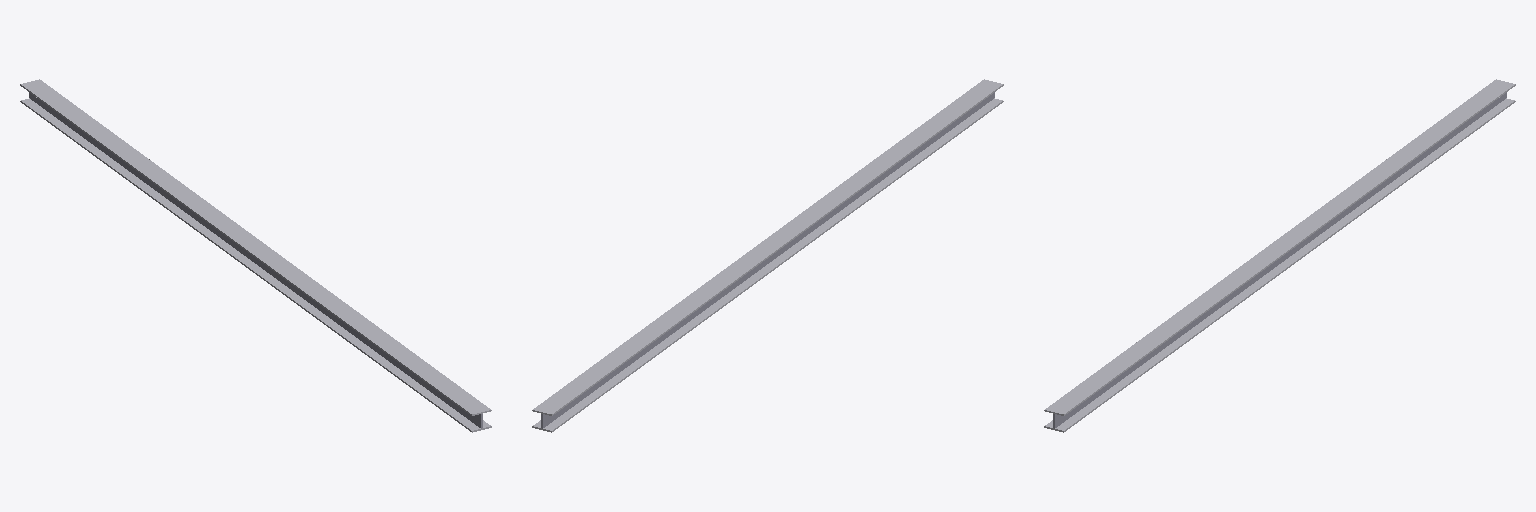
robot.urdf — h_bar:
<?xml version="1.0" ?>
<!-- =================================================================================== -->
<!-- |    This document was autogenerated by xacro from h_bar.xacro                    | -->
<!-- |    EDITING THIS FILE BY HAND IS NOT RECOMMENDED                                 | -->
<!-- =================================================================================== -->
<robot name="h_bar">
  <link name="world"/>
  <!-- Bottom leg (aligned with z-axis after rotation, below origin) -->
  <link name="hbar_bottom_leg">
    <visual>
      <origin rpy="0 1.57079633 0" xyz="0 0 0"/>
      <geometry>
        <!-- thickness x, profile width y, leg length along local z -->
        <box size="0.01 5.0 0.125"/>
      </geometry>
      <material name="hbar_material_bottom">
        <!-- Brushed steel-like gray -->
        <color rgba="0.75 0.75 0.78 1.0"/>
      </material>
    </visual>
    <collision>
      <origin rpy="0 1.57079633 0" xyz="0 0 0"/>
      <geometry>
        <box size="0.01 5.0 0.125"/>
      </geometry>
    </collision>
    <inertial>
      <origin rpy="0 0 0" xyz="0 0 0"/>
      <mass value="0.3333333333333333"/>
      <inertia ixx="0.6948784722222222" ixy="0.0" ixz="0.0" iyy="0.0004368055555555555" iyz="0.0" izz="0.6944472222222222"/>
    </inertial>
  </link>
  <!-- Top leg (aligned with z-axis after rotation, above origin) -->
  <link name="hbar_top_leg">
    <visual>
      <origin rpy="0 1.57079633 0" xyz="0 0 0"/>
      <geometry>
        <box size="0.01 5.0 0.125"/>
      </geometry>
      <material name="hbar_material_top">
        <!-- Brushed steel-like gray -->
        <color rgba="0.75 0.75 0.78 1.0"/>
      </material>
    </visual>
    <collision>
      <origin rpy="0 1.57079633 0" xyz="0 0 0"/>
      <geometry>
        <box size="0.01 5.0 0.125"/>
      </geometry>
    </collision>
    <inertial>
      <origin rpy="0 0 0" xyz="0 0 0"/>
      <mass value="0.3333333333333333"/>
      <inertia ixx="0.6948784722222222" ixy="0.0" ixz="0.0" iyy="0.0004368055555555555" iyz="0.0" izz="0.6944472222222222"/>
    </inertial>
  </link>
  <!-- Crossbar: vertical (aligned with z-axis) at the origin -->
  <link name="hbar_crossbar">
    <visual>
      <!-- Thickness in x,y, length in z -->
      <origin rpy="0 0 0" xyz="0 0 0"/>
      <geometry>
        <box size="0.01 5.0 0.1"/>
      </geometry>
      <material name="hbar_material_cross">
        <!-- Slightly darker steel for visual contrast -->
        <color rgba="0.65 0.65 0.7 1.0"/>
      </material>
    </visual>
    <collision>
      <origin rpy="0 0 0" xyz="0 0 0"/>
      <geometry>
        <box size="0.01 5.0 0.1"/>
      </geometry>
    </collision>
    <inertial>
      <origin rpy="0 0 0" xyz="0 0 0"/>
      <mass value="0.3333333333333333"/>
      <inertia ixx="0.6947222222222222" ixy="0.0" ixz="0.0" iyy="0.0002805555555555556" iyz="0.0" izz="0.6944472222222222"/>
    </inertial>
  </link>
  <!-- Fix crossbar to world; its center is at the macro pose -->
  <joint name="hbar_cross_fix" type="fixed">
    <parent link="world"/>
    <child link="hbar_crossbar"/>
    <origin rpy="0 0 0" xyz="0 0 0"/>
  </joint>
  <!-- Top leg: translated +L_leg/2 in x and +L_span/2 in z relative to crossbar -->
  <joint name="hbar_top_fix" type="fixed">
    <parent link="hbar_crossbar"/>
    <child link="hbar_top_leg"/>
    <origin rpy="0 0.0 0" xyz="0 0 0.05"/>
  </joint>
  <!-- Bottom leg: translated +L_leg/2 in x and -L_span/2 in z relative to crossbar -->
  <joint name="hbar_bottom_fix" type="fixed">
    <parent link="hbar_crossbar"/>
    <child link="hbar_bottom_leg"/>
    <origin rpy="0 0 0" xyz="0 0 -0.05"/>
  </joint>
</robot>

--- Render facts (derived) ---
3 views of the same robot in one strip: view 1: azimuth 30°, elevation 25°; view 2: azimuth 150°, elevation 25°; view 3: azimuth 330°, elevation 25° (orthographic).
Robot: h_bar — 4 links, 3 joints (3 fixed); root link world; default pose: all joints at 0.
Visible links, largest first — view 1: hbar_top_leg, hbar_bottom_leg, hbar_crossbar; view 2: hbar_top_leg, hbar_bottom_leg, hbar_crossbar; view 3: hbar_top_leg, hbar_bottom_leg, hbar_crossbar.
Boxes of the visible links, x1,y1,x2,y2 form: hbar_top_leg: (20, 79, 491, 415); hbar_bottom_leg: (20, 98, 491, 432); hbar_crossbar: (29, 92, 482, 428); hbar_top_leg: (532, 79, 1003, 415); hbar_bottom_leg: (532, 98, 1003, 432); hbar_crossbar: (541, 92, 994, 428); hbar_top_leg: (1044, 79, 1515, 415); hbar_bottom_leg: (1044, 98, 1515, 432); hbar_crossbar: (1053, 92, 1506, 428).
Size in the robot's own frame: 0.125 by 5 by 0.11 metres.
Geometry: primitives only (box / cylinder / sphere), no mesh files.
